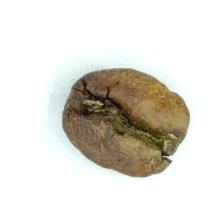NG: (74, 84, 178, 175)
